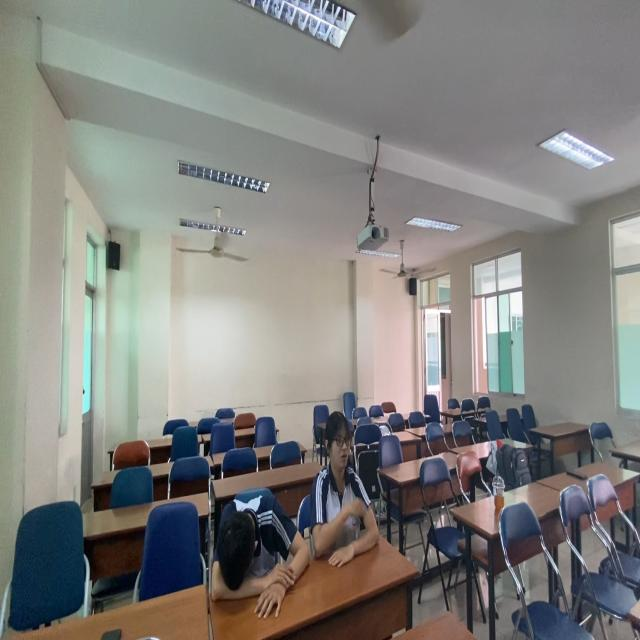sleep: (199, 480, 314, 627)
